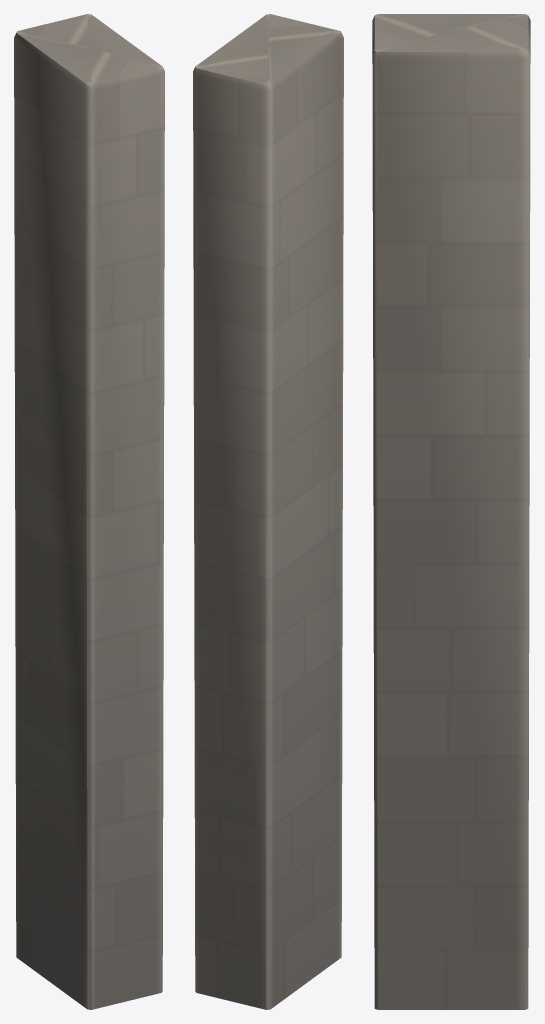
The model's file is ext_6x10.glb.
The picture shows the model from 3 angles, left to right: view 1: azimuth 30°, elevation 25°; view 2: azimuth 150°, elevation 25°; view 3: azimuth 270°, elevation 25°; orthographic projection. The views are drawn at different scales.
Visible parts, largest first — view 1: ext_6x10.001; view 2: ext_6x10.001; view 3: ext_6x10.001.
Boxes of the visible parts, x1,y1,x2,y2 form: ext_6x10.001: (14,14,164,1009); ext_6x10.001: (193,14,343,1009); ext_6x10.001: (372,14,530,1009).
Bounding box in the file's own units: 3.55 × 40 × 5.95.
1 material, 1 textured.
